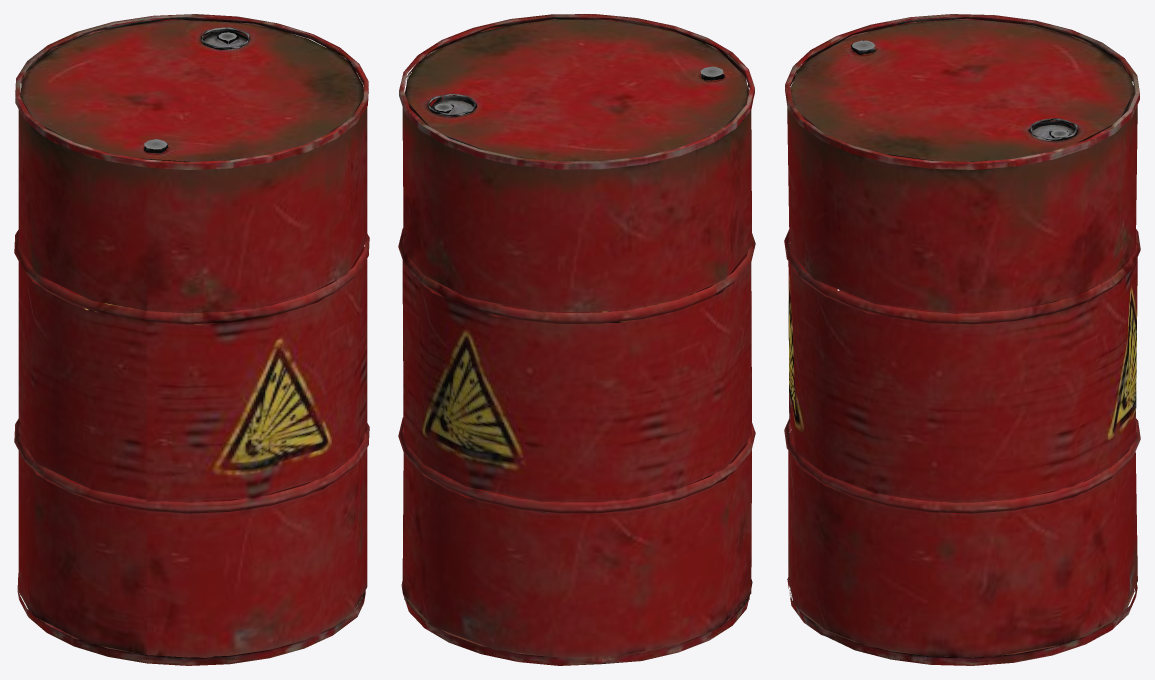
File: barrel.glb
3 views of the same model, side by side, from view 1: azimuth 30°, elevation 25°; view 2: azimuth 150°, elevation 25°; view 3: azimuth 270°, elevation 25° (orthographic).
Parts seen in each view (by area): view 1: barrel; view 2: barrel; view 3: barrel.
Boxes of the visible parts, left/top/right/bottom form: barrel: left=14, top=14, right=369, bottom=665; barrel: left=398, top=14, right=755, bottom=665; barrel: left=784, top=14, right=1140, bottom=665.
Size of the model in its own units: 0.5626 by 0.88 by 0.5626.
Materials: 1 (1 with a texture image).
